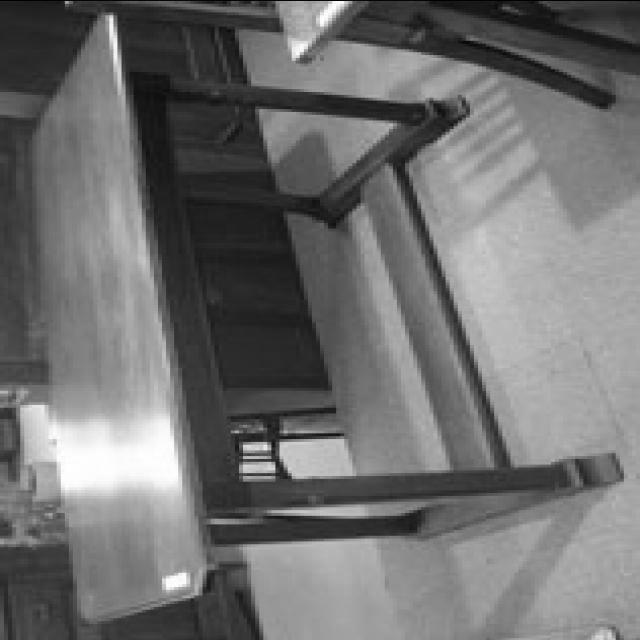table: (22, 9, 622, 624)
